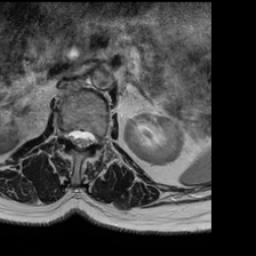CCS_normal: (77, 120, 85, 156)
LFS_normal: (94, 126, 103, 152)
LLS_normal: (85, 122, 94, 152)
RFS_normal: (59, 120, 67, 146)
RLS_normal: (67, 121, 77, 150)
